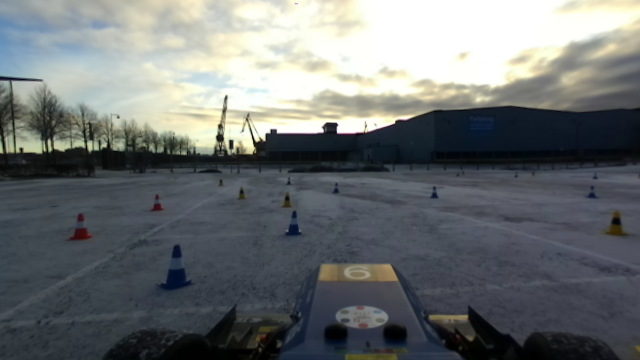blue: (157, 242, 195, 291), (283, 208, 303, 239), (427, 184, 441, 202), (584, 184, 599, 200), (329, 180, 341, 196)
orange: (64, 210, 94, 243), (149, 193, 166, 214)
yellow: (603, 209, 630, 237), (235, 185, 247, 201)
